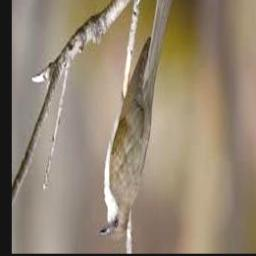Cuckoo: (98, 0, 179, 240)
